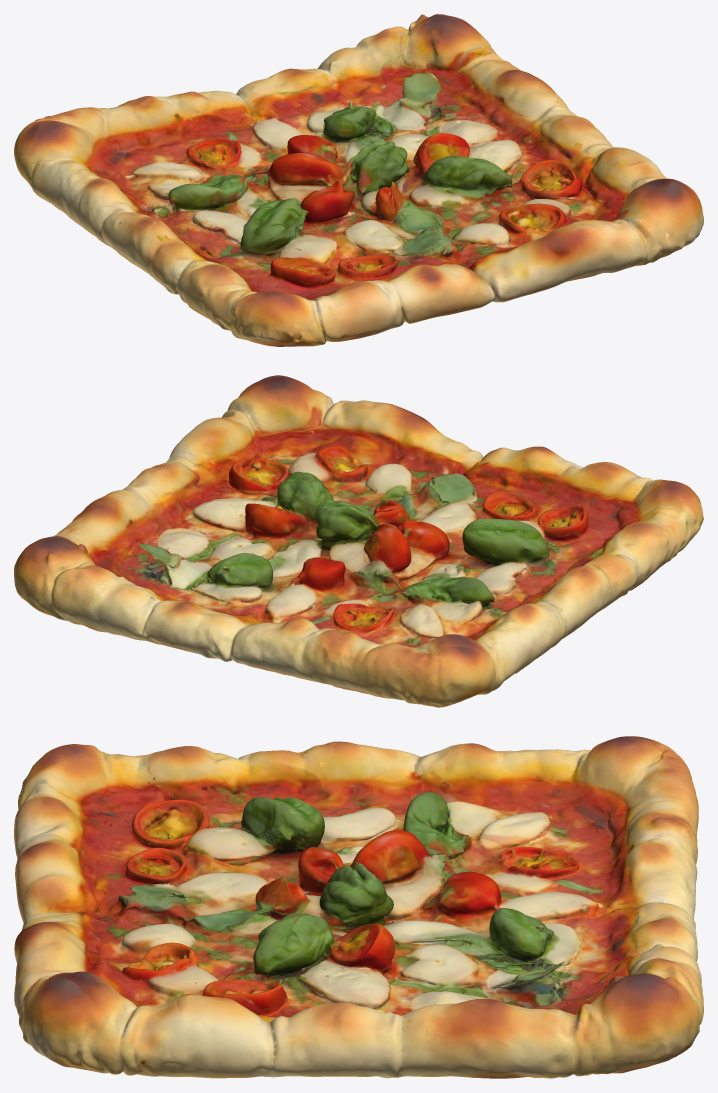
Rendered from Sicilian_Pizza.glb.
3 views of the same model, one above another, from view 1: azimuth 30°, elevation 25°; view 2: azimuth 150°, elevation 25°; view 3: azimuth 270°, elevation 25° (orthographic). The views are drawn at different scales.
Size of the model in its own units: 2 by 0.2873 by 2.
Materials: 1 (1 with a texture image).
